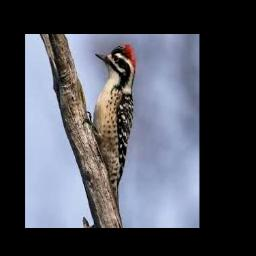Woodpecker: (83, 44, 138, 209)
